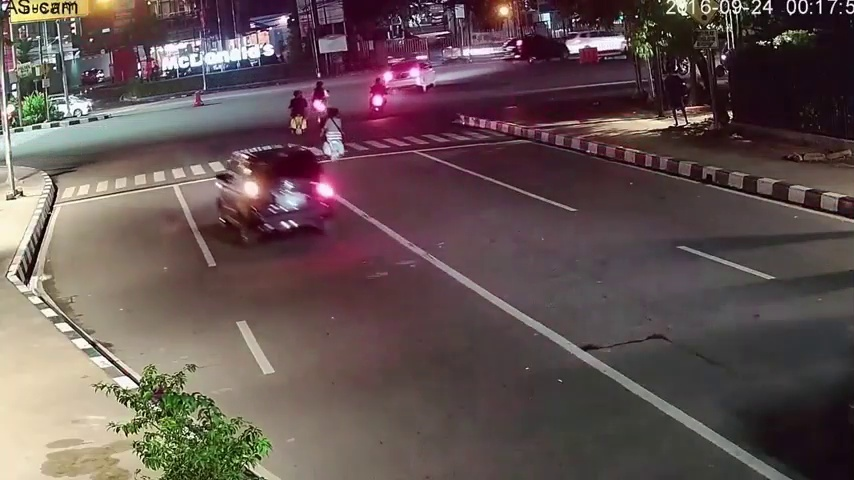car: (215, 144, 332, 246), (384, 57, 438, 95), (48, 94, 89, 116)
motorbike: (321, 108, 345, 163), (286, 90, 310, 136), (369, 78, 387, 119), (313, 78, 329, 118)
